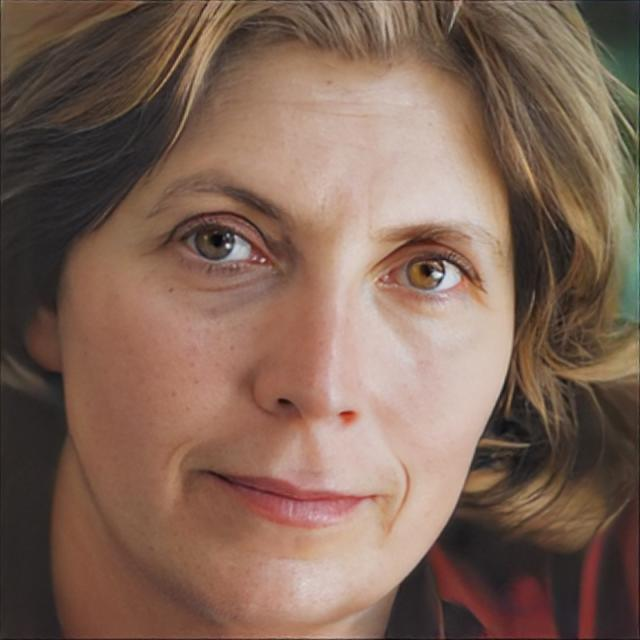content: (59, 36, 517, 632)
